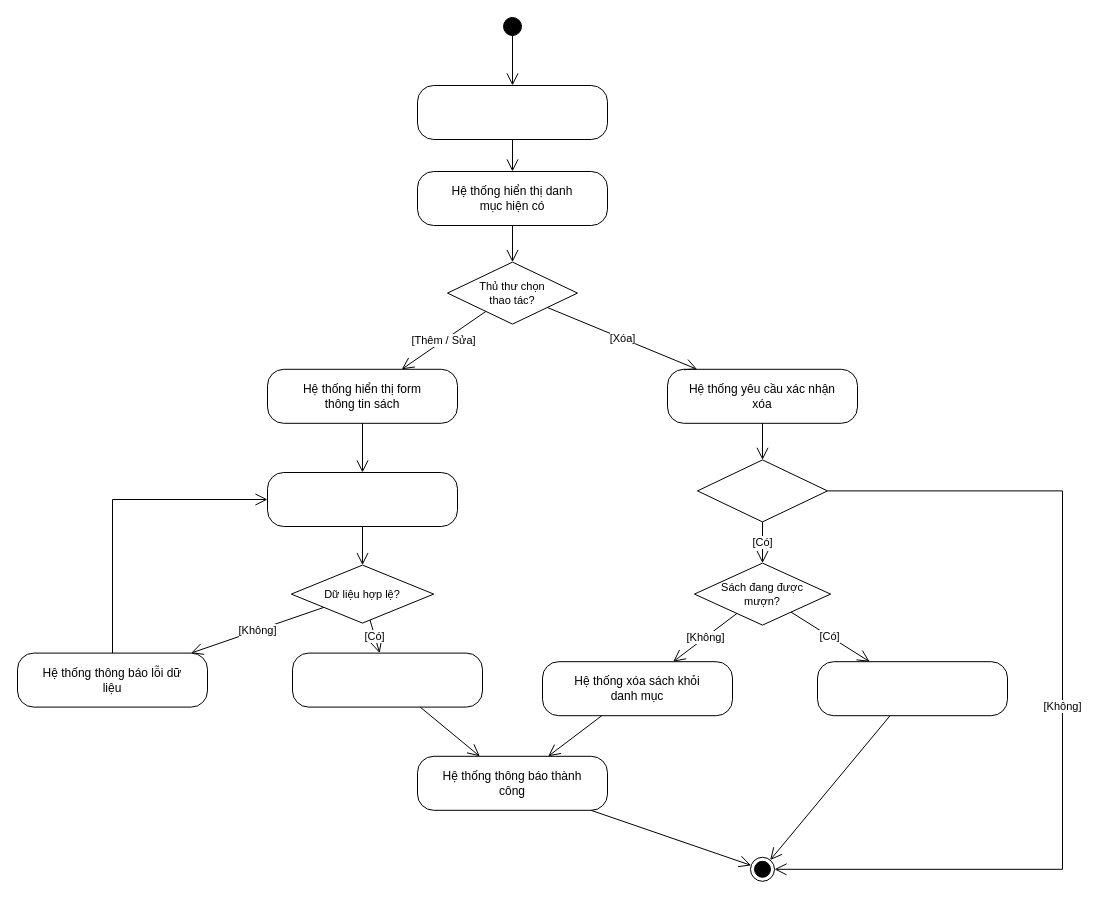
This 1099x899 diagram has some shape labels left out. Here are the shapes that lost their labels. From the top down, the centre of each, then its label:
point 512,112: Thủ thư chọn Cập nhật danh mục sách
point 362,499: Thủ thư nhập hoặc chỉnh thông tin và nhấn Lưu
point 762,490: Thủ thư xác nhận?
point 387,679: Hệ thống lưu thông tin vào danh mục
point 912,688: Hệ thống thông báo không thể xóa
